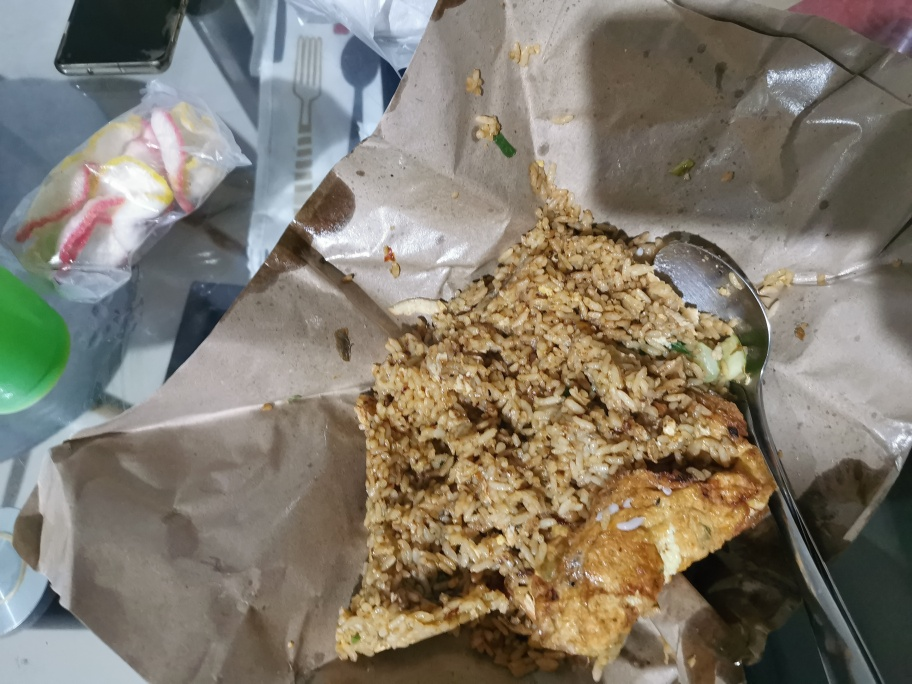nasi goreng: (343, 195, 776, 669)
